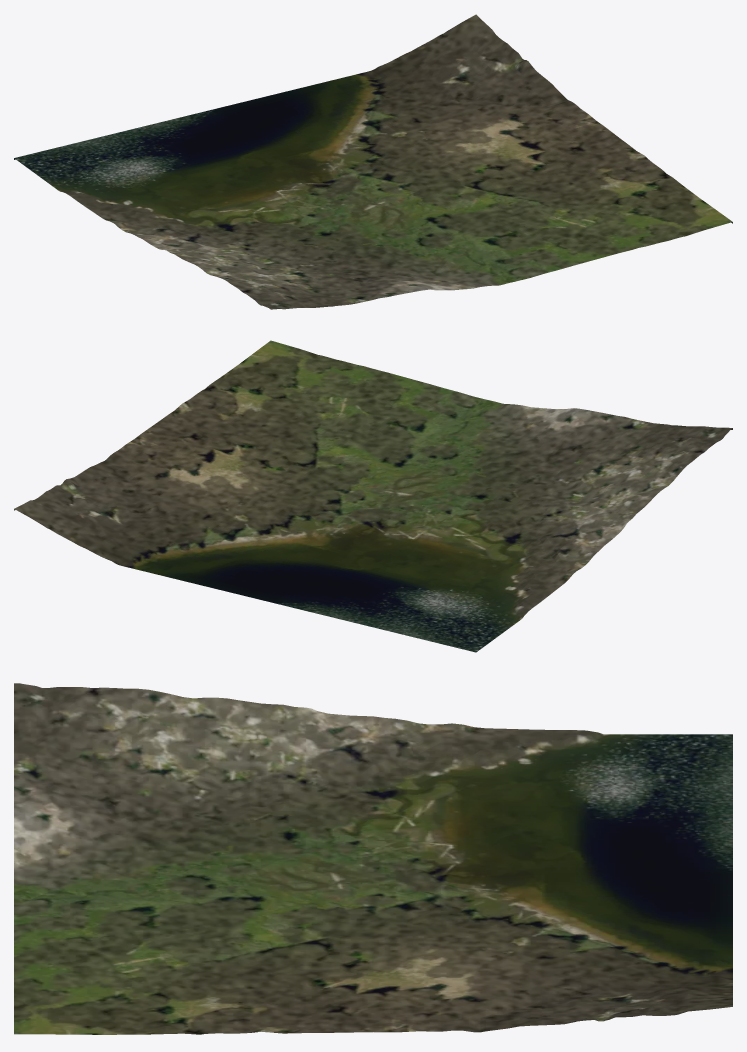
The picture shows the model from 3 angles, top to bottom: view 1: azimuth 30°, elevation 25°; view 2: azimuth 150°, elevation 25°; view 3: azimuth 270°, elevation 25°; orthographic projection. The views are drawn at different scales.
Bounding box in the file's own units: 250 × 19.88 × 241.
Materials: 1 (1 with a texture image).
